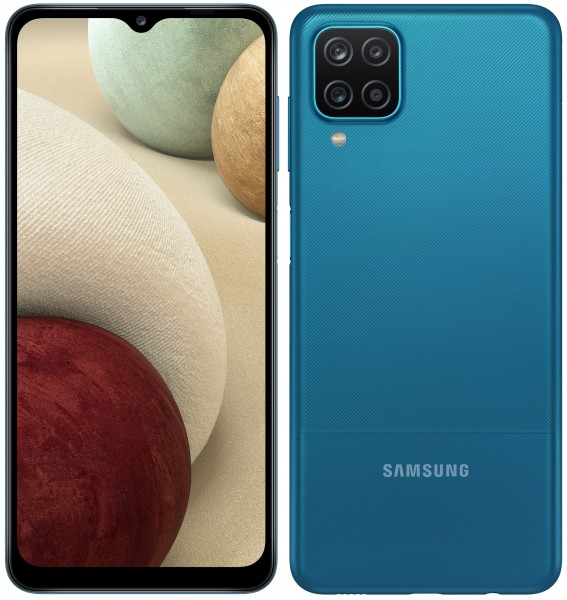Phone: (285, 1, 567, 600), (1, 1, 280, 596)
